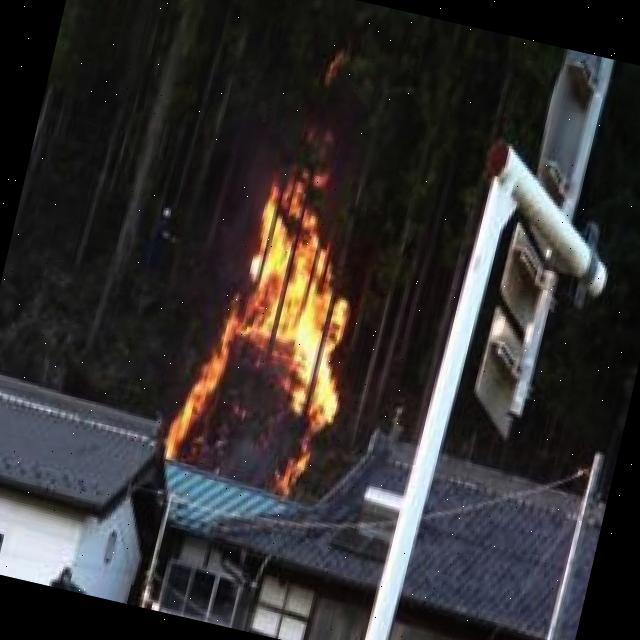fire: (172, 155, 388, 501)
